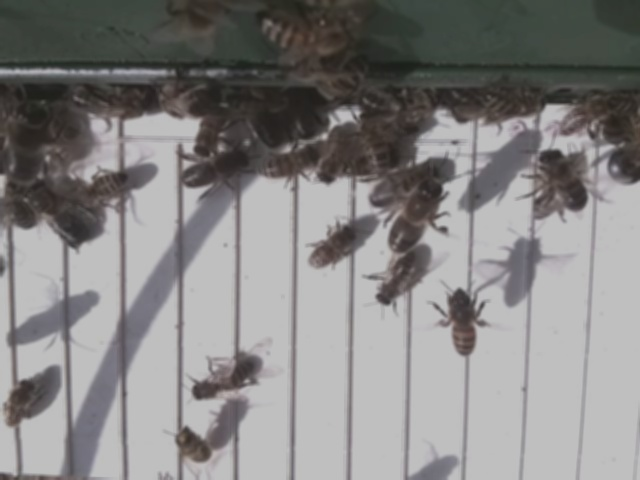Drone: (383, 176, 444, 258), (25, 182, 90, 252), (534, 146, 590, 216), (178, 150, 250, 195)
Worker: (189, 356, 256, 405), (305, 223, 358, 274), (374, 254, 416, 311), (316, 124, 352, 187), (71, 170, 130, 208), (254, 148, 314, 185), (0, 377, 40, 430), (450, 286, 479, 359), (172, 426, 214, 466)
